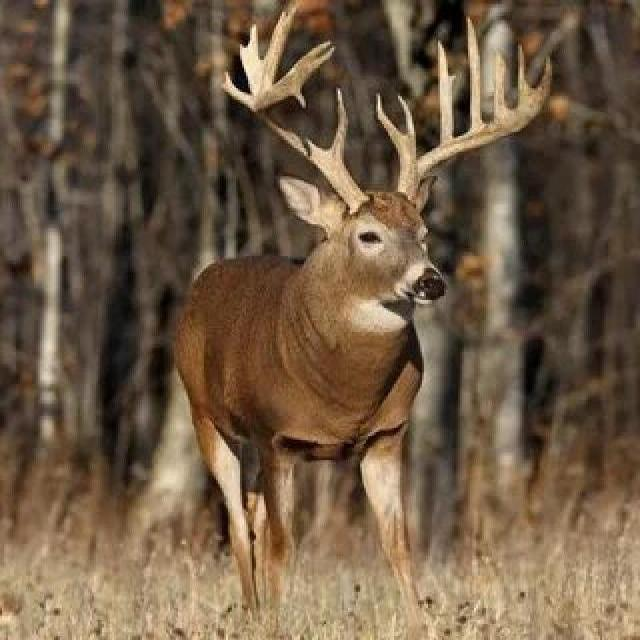deer: (130, 10, 565, 562)
